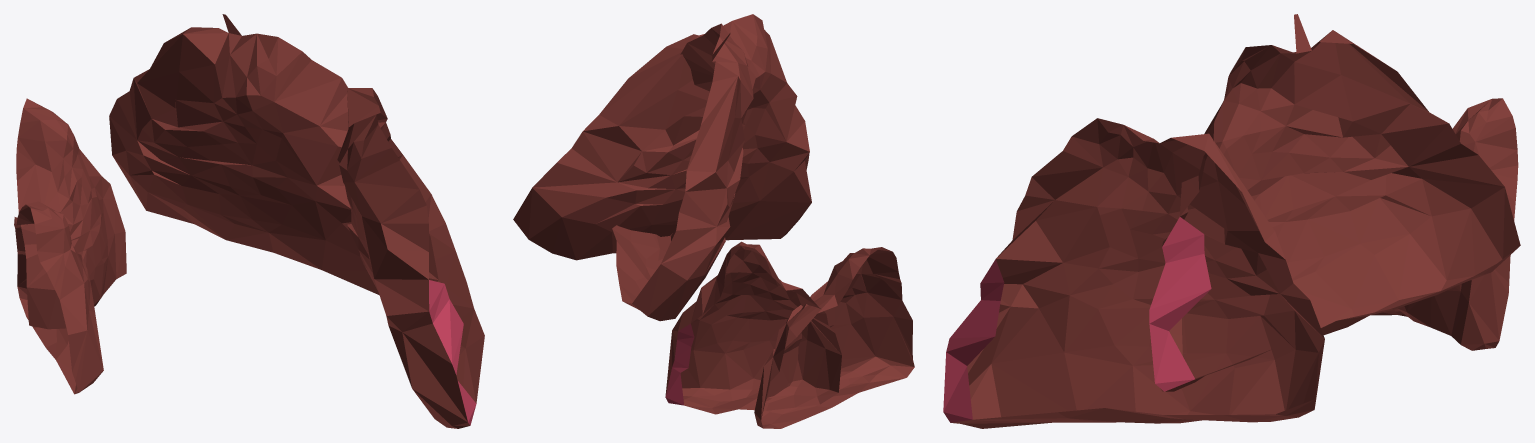
File: mountainShape1.glb
3 renders of one model, left to right at view 1: azimuth 30°, elevation 25°; view 2: azimuth 150°, elevation 25°; view 3: azimuth 270°, elevation 25°, orthographic. The views are drawn at different scales.
Visible parts, largest first — view 1: mountainShape2.001, mountainShape2.002, mountainShape2, mountainShape1; view 2: mountainShape2.002, mountainShape2, mountainShape2.001, mountainShape1; view 3: mountainShape2.002, mountainShape2.001, mountainShape2.
Part boxes in pixels (box(x1,y1,x2,y2)): mountainShape2.001: box(109, 14, 438, 295); mountainShape2.002: box(337, 88, 484, 428); mountainShape2: box(16, 98, 126, 329); mountainShape1: box(14, 201, 103, 394); mountainShape2.002: box(513, 14, 811, 260); mountainShape2: box(665, 241, 841, 414); mountainShape2.001: box(612, 23, 755, 321); mountainShape1: box(754, 247, 914, 428); mountainShape2.002: box(943, 118, 1324, 428); mountainShape2.001: box(1149, 14, 1520, 391); mountainShape2: box(1397, 98, 1518, 350).
Bounding box in the file's own units: 429 × 342 × 484.
1 material, 1 textured.
